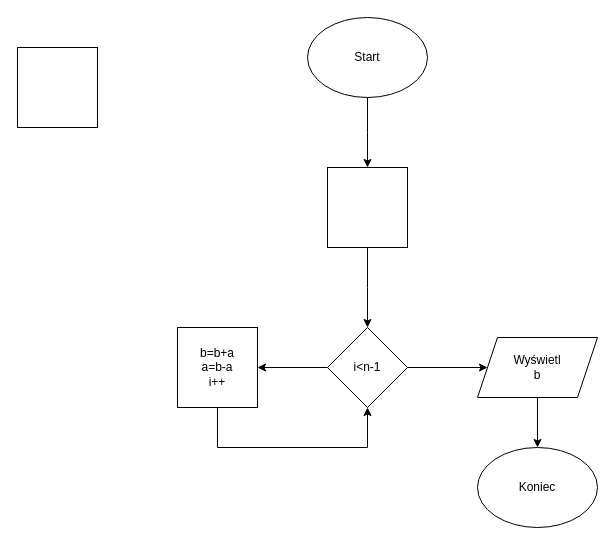
Some shapes in this 615 by 545 pixel diagram are drawn without their labels. Each missing label, with the box of its shape:
a=0 b=1 i=0: (326, 166, 408, 248)
Zadanie 20: (16, 46, 98, 128)
